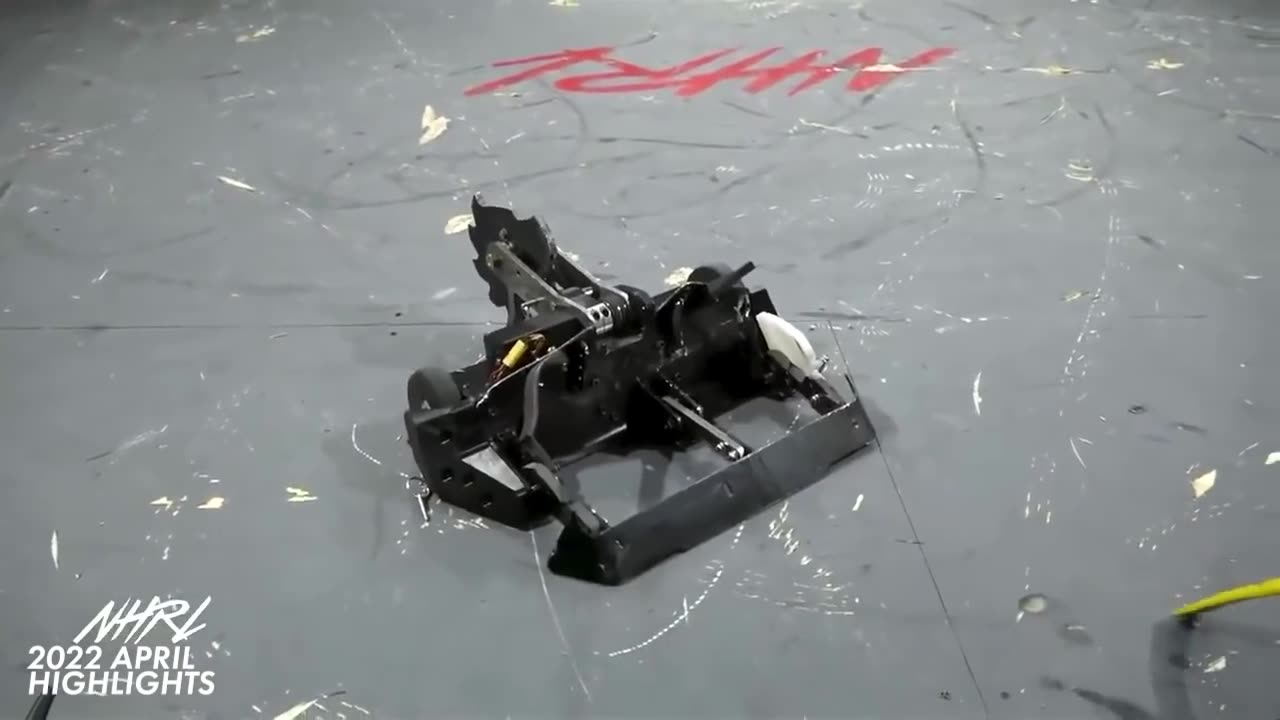combatbot: (402, 197, 875, 590)
